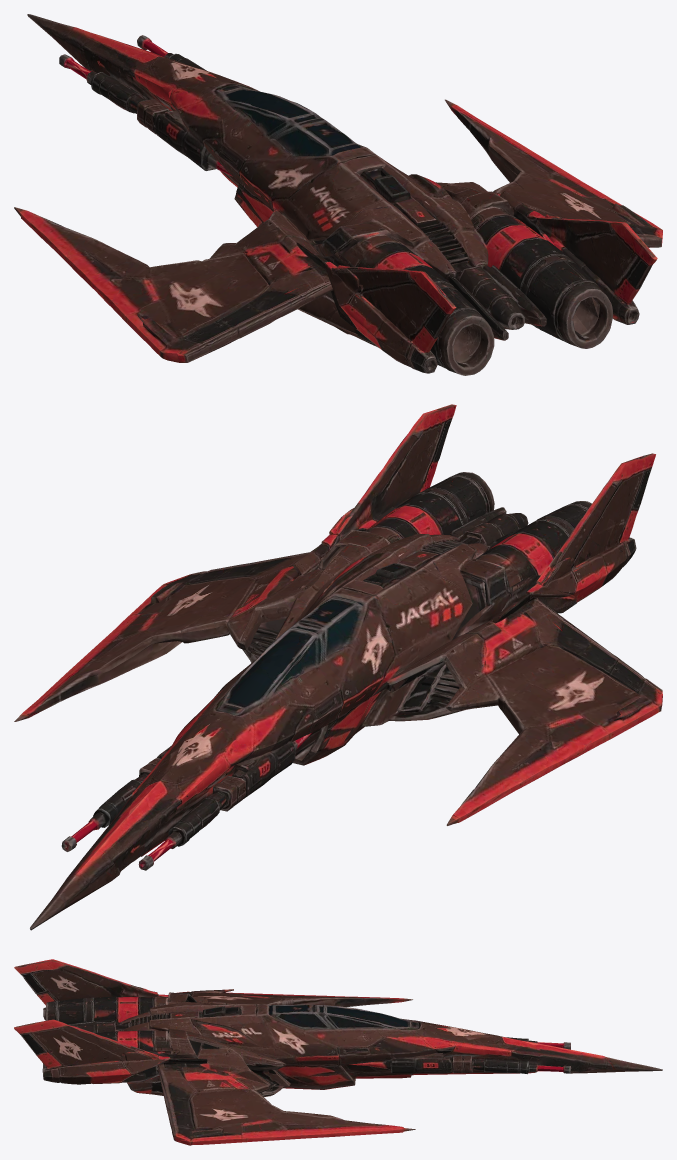
Rendered from enemy-hunter.glb.
The picture shows the model from 3 angles, top to bottom: view 1: azimuth 30°, elevation 25°; view 2: azimuth 150°, elevation 25°; view 3: azimuth 270°, elevation 25°; orthographic projection. The views are drawn at different scales.
Parts seen in each view (by area): view 1: enemy-hunter-rumpf; view 2: enemy-hunter-rumpf; view 3: enemy-hunter-rumpf.
Part boxes in pixels (<box>): enemy-hunter-rumpf: <box>14,14,662,375</box>; enemy-hunter-rumpf: <box>14,404,662,930</box>; enemy-hunter-rumpf: <box>14,959,662,1145</box>.
Size of the model in its own units: 1.1 by 0.3152 by 2.
Materials: 1 (1 with a texture image).
